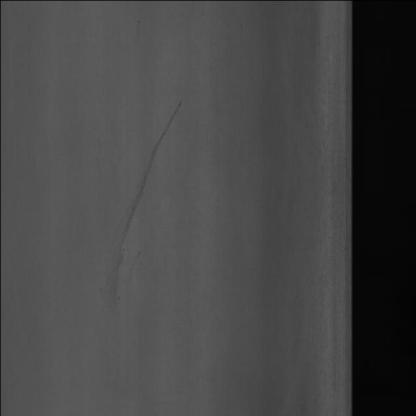water_spot: (102, 89, 192, 328)
